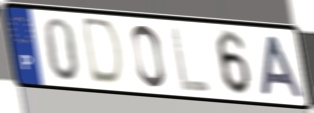0: (41, 16, 82, 84), (130, 23, 166, 90)
6: (214, 28, 253, 98)
A: (259, 34, 306, 100)
D: (82, 15, 126, 89)
L: (169, 24, 213, 94)
